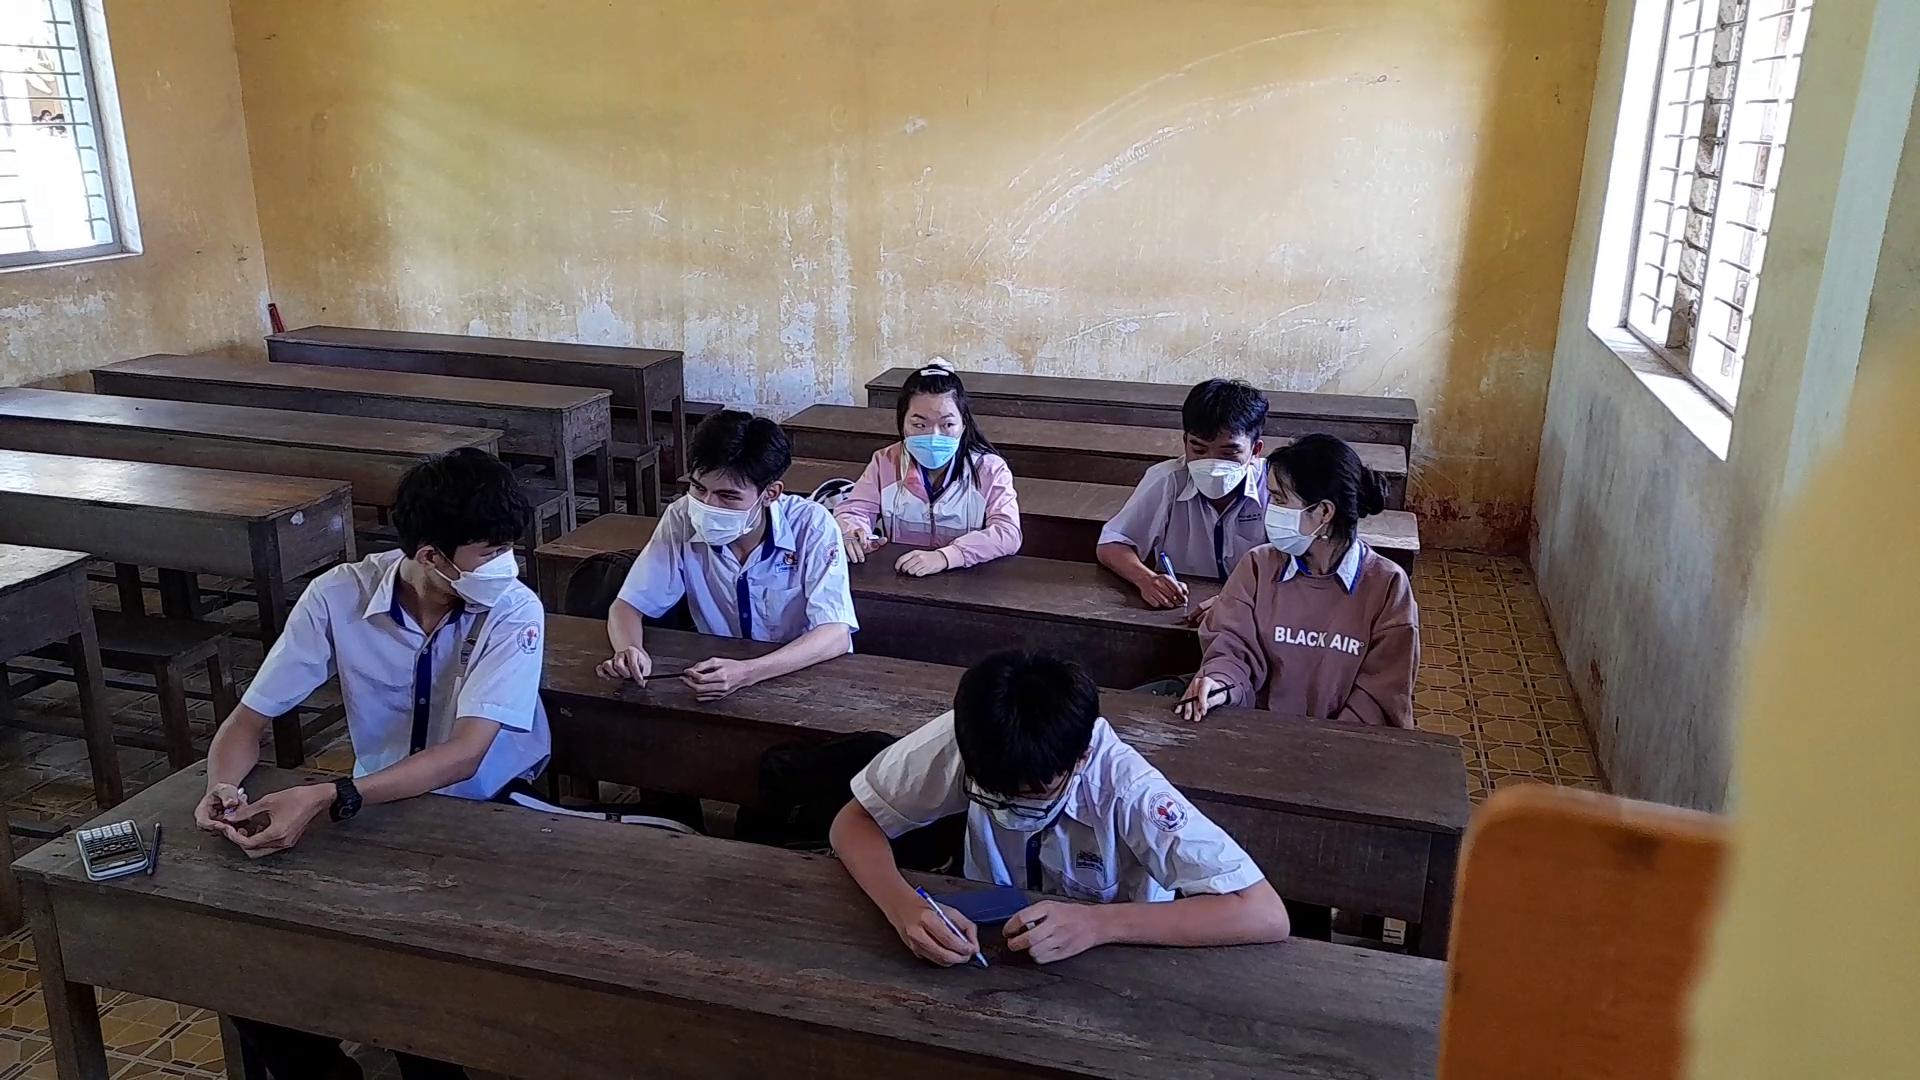Hand Under Table: (1331, 564, 1433, 727)
Look Around: (1236, 419, 1389, 589), (382, 440, 534, 609)
Normal: (828, 632, 1291, 990), (599, 401, 855, 720), (841, 342, 1023, 582), (1101, 363, 1267, 593)
